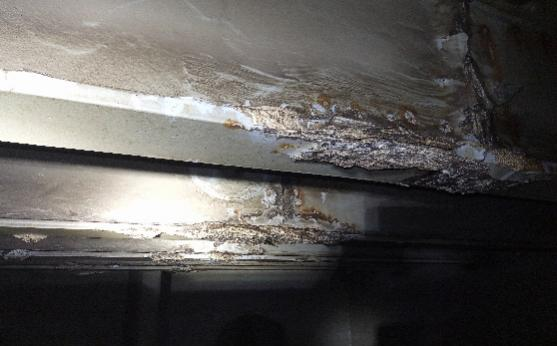corrosion: (241, 76, 471, 181), (170, 173, 362, 264), (477, 121, 528, 185)
